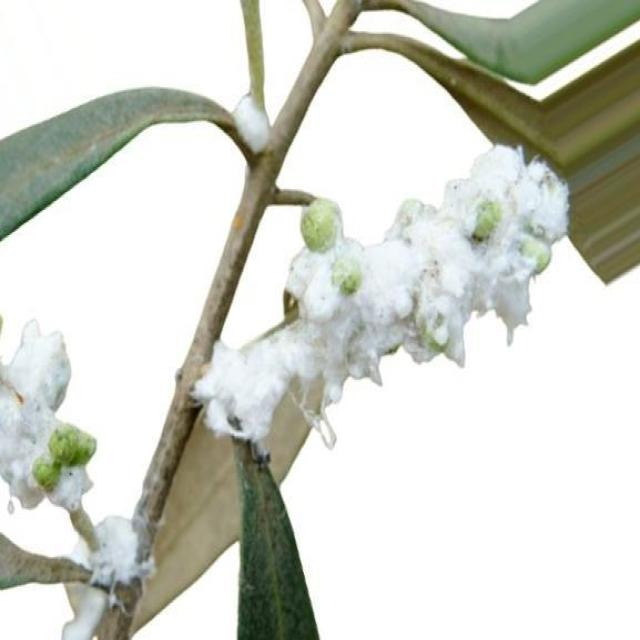Psyllid: (191, 145, 568, 460), (0, 319, 153, 639), (231, 80, 272, 163)
